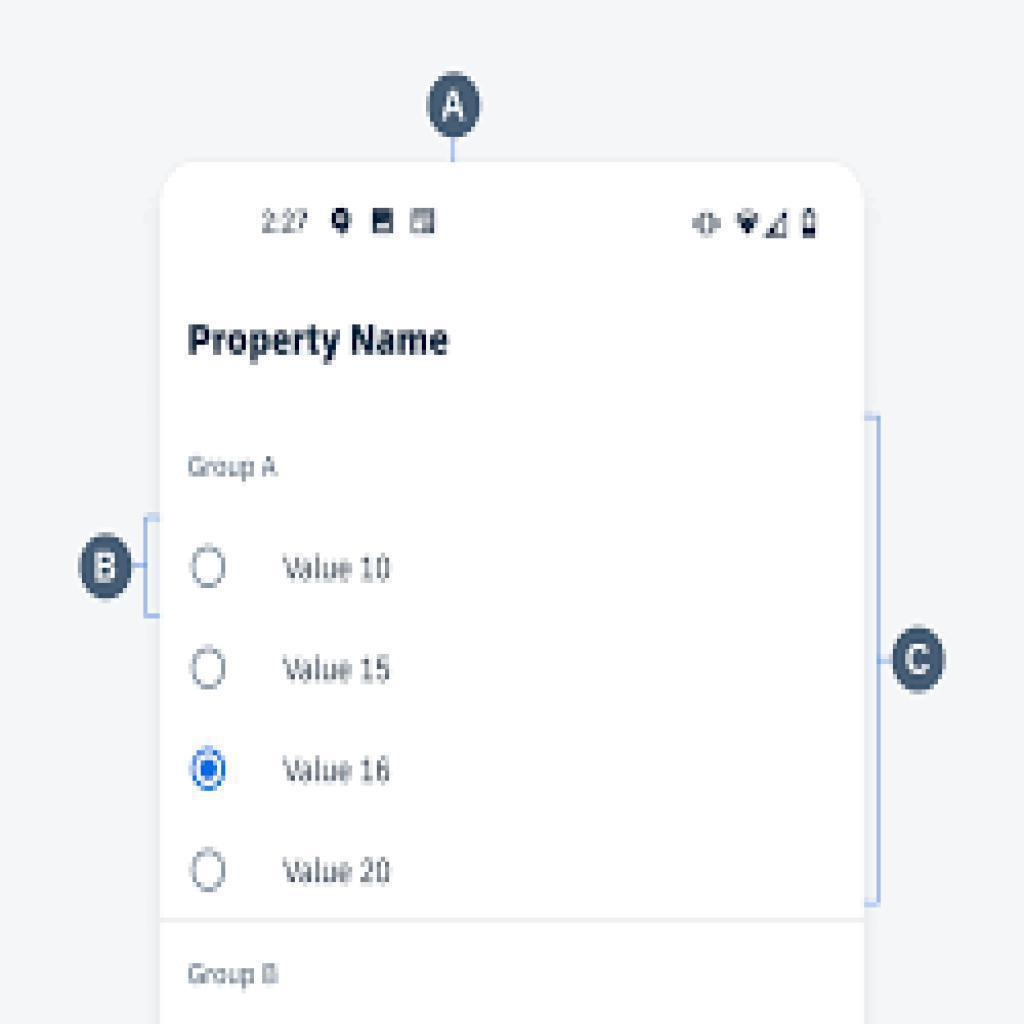radio: (187, 741, 229, 795), (188, 538, 228, 592), (188, 846, 231, 896), (189, 644, 230, 694)
